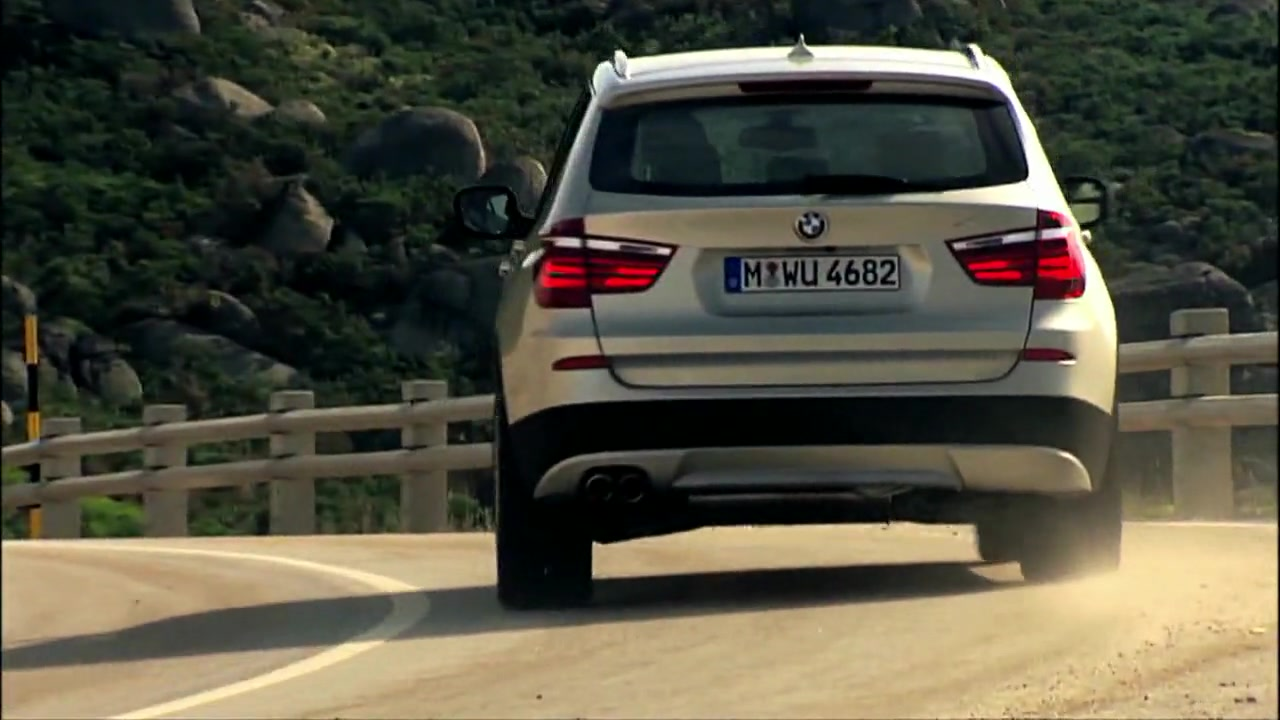car: (489, 49, 1126, 618)
